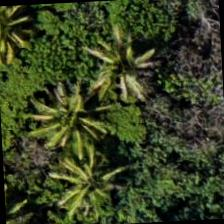Kelapa_Sawit: (34, 126, 130, 221), (20, 66, 116, 161), (75, 14, 170, 109), (0, 3, 47, 64)
